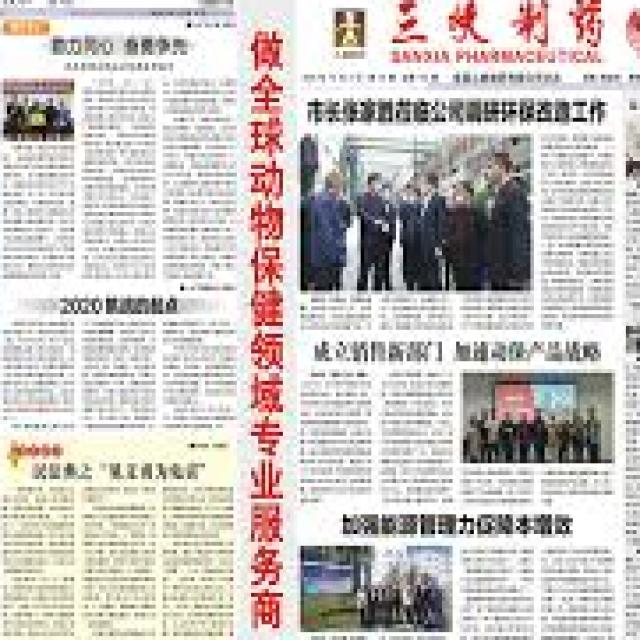organic: (9, 8, 612, 629)
